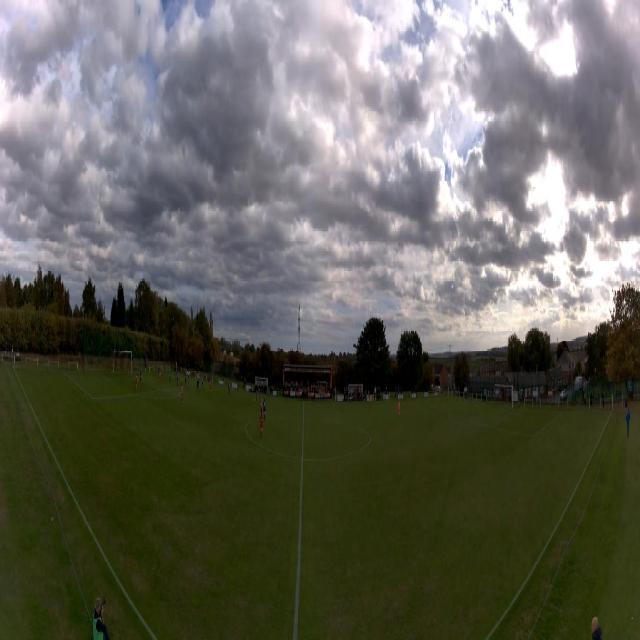ball: (195, 377, 196, 379)
player: (259, 412, 263, 439), (397, 399, 401, 417), (180, 382, 183, 404), (263, 399, 266, 421), (135, 373, 138, 391), (209, 378, 212, 396), (260, 398, 263, 412), (202, 375, 204, 393), (177, 369, 179, 387), (140, 366, 142, 383), (169, 365, 171, 382), (197, 378, 199, 395), (130, 358, 132, 374), (185, 374, 187, 390), (255, 388, 257, 404), (228, 381, 230, 396), (157, 365, 159, 379), (159, 370, 161, 384), (199, 369, 201, 383), (187, 375, 189, 389), (175, 366, 177, 380), (137, 370, 138, 379)
